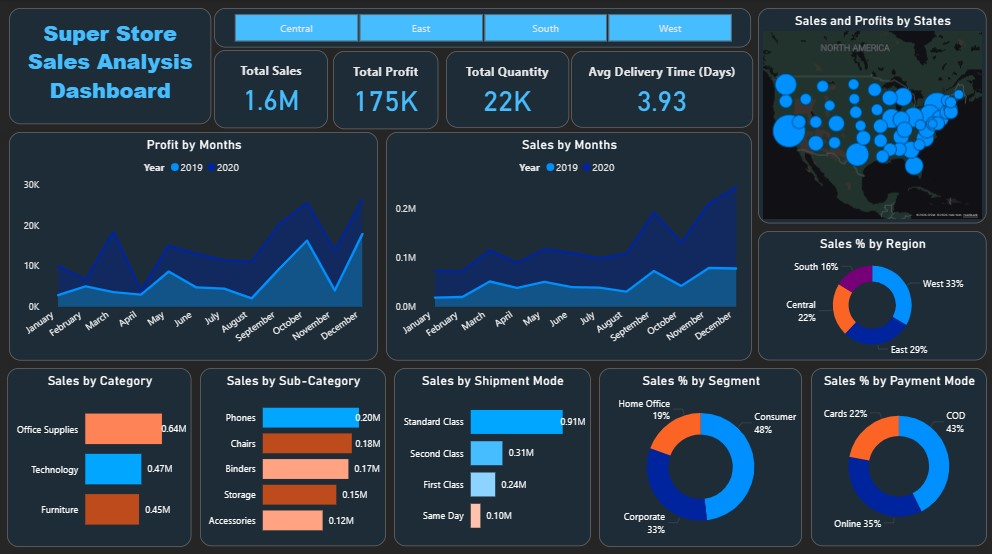

What the dashboard file says about the page in this screenshot:
{"tool":"powerbi","page":{"name":"Sales Analysis Dashboard","canvas":[1280,720],"ordinal":0},"visuals":[{"type":"clusteredBarChart","title":"Sales by Category","fields":{"Category":["SuperStore_Sales_Dataset.Category"],"Y":["Sum(SuperStore_Sales_Dataset.Sales)"]},"box":[8.5,476.2,238.1,231],"z":0},{"type":"clusteredBarChart","title":"Sales by Sub-Category","fields":{"Category":["SuperStore_Sales_Dataset.Sub-Category"],"Y":["Sum(SuperStore_Sales_Dataset.Sales)"]},"box":[258,476.2,239.5,229.6],"z":1000},{"type":"clusteredBarChart","title":"Sales by Shipment Mode","fields":{"Category":["SuperStore_Sales_Dataset.Ship Mode"],"Y":["Sum(SuperStore_Sales_Dataset.Sales)"]},"box":[508.8,476.2,253.7,229.6],"z":2000},{"type":"stackedAreaChart","title":"Sales by Months","fields":{"Y":["Sum(SuperStore_Sales_Dataset.Sales)"],"Category":["SuperStore_Sales_Dataset.Order Date.Variation.Date Hierarchy.Month"],"Series":["SuperStore_Sales_Dataset.Order Date.Variation.Date Hierarchy.Year"]},"box":[497.5,171.5,472,294.8],"z":3000},{"type":"stackedAreaChart","title":"Profit by Months","fields":{"Category":["SuperStore_Sales_Dataset.Order Date.Variation.Date Hierarchy.Month"],"Series":["SuperStore_Sales_Dataset.Order Date.Variation.Date Hierarchy.Year"],"Y":["Sum(SuperStore_Sales_Dataset.Profit)"]},"box":[11.3,171.5,476.2,294.8],"z":4000},{"type":"map","title":"Sales and Profits by States","fields":{"Category":["SuperStore_Sales_Dataset.State"],"Size":["Sum(SuperStore_Sales_Dataset.Sales)"]},"box":[978,11.3,294.8,277.8],"z":5000},{"type":"donutChart","title":"Sales % by Segment","fields":{"Y":["Sum(SuperStore_Sales_Dataset.Sales)"],"Category":["SuperStore_Sales_Dataset.Segment"]},"box":[772.4,476.2,262.2,231],"z":6000},{"type":"donutChart","title":"Sales % by Payment Mode","fields":{"Y":["Sum(SuperStore_Sales_Dataset.Sales)"],"Category":["SuperStore_Sales_Dataset.Payment Mode"]},"box":[1046,476.2,226.8,229.6],"z":7000},{"type":"donutChart","title":"Sales % by Region","fields":{"Y":["Sum(SuperStore_Sales_Dataset.Sales)"],"Category":["SuperStore_Sales_Dataset.Region"]},"box":[978,299.1,294.8,167.2],"z":8000},{"type":"slicer","fields":{"Values":["SuperStore_Sales_Dataset.Region"]},"box":[276.4,11.3,693.1,51],"z":9000},{"type":"textbox","box":[11.3,11.3,260.8,150.2],"z":10000},{"type":"cardVisual","fields":{"Data":["Sum(SuperStore_Sales_Dataset.Sales)"]},"box":[276.4,65.2,147.4,100.6],"z":11000},{"type":"cardVisual","fields":{"Data":["Sum(SuperStore_Sales_Dataset.Profit)"]},"box":[429.4,66.6,136.1,100.6],"z":12000},{"type":"cardVisual","fields":{"Data":["Sum(SuperStore_Sales_Dataset.Quantity)"]},"box":[575.4,66.6,158.7,99.2],"z":13000},{"type":"cardVisual","fields":{"Data":["Avg(SuperStore_Sales_Dataset.Delivery Time)"]},"box":[737,66.6,235.3,99.2],"z":14000}]}

Visuals, with their boxes in screenshot pixels (x1, y1, x2, y2), scaled from the page's 1280x720 canvas onto the 992x554 screenshot:
"Sales by Category" clusteredBarChart: x1=7 y1=366 x2=191 y2=544
"Sales by Sub-Category" clusteredBarChart: x1=200 y1=366 x2=386 y2=543
"Sales by Shipment Mode" clusteredBarChart: x1=394 y1=366 x2=591 y2=543
"Sales by Months" stackedAreaChart: x1=386 y1=132 x2=751 y2=359
"Profit by Months" stackedAreaChart: x1=9 y1=132 x2=378 y2=359
"Sales and Profits by States" map: x1=758 y1=9 x2=986 y2=222
"Sales % by Segment" donutChart: x1=599 y1=366 x2=802 y2=544
"Sales % by Payment Mode" donutChart: x1=811 y1=366 x2=986 y2=543
"Sales % by Region" donutChart: x1=758 y1=230 x2=986 y2=359
slicer - SuperStore_Sales_Dataset.Region: x1=214 y1=9 x2=751 y2=48
textbox: x1=9 y1=9 x2=211 y2=124
cardVisual - Sum(SuperStore_Sales_Dataset.Sales): x1=214 y1=50 x2=328 y2=128
cardVisual - Sum(SuperStore_Sales_Dataset.Profit): x1=333 y1=51 x2=438 y2=129
cardVisual - Sum(SuperStore_Sales_Dataset.Quantity): x1=446 y1=51 x2=569 y2=128
cardVisual - Avg(SuperStore_Sales_Dataset.Delivery Time): x1=571 y1=51 x2=754 y2=128
